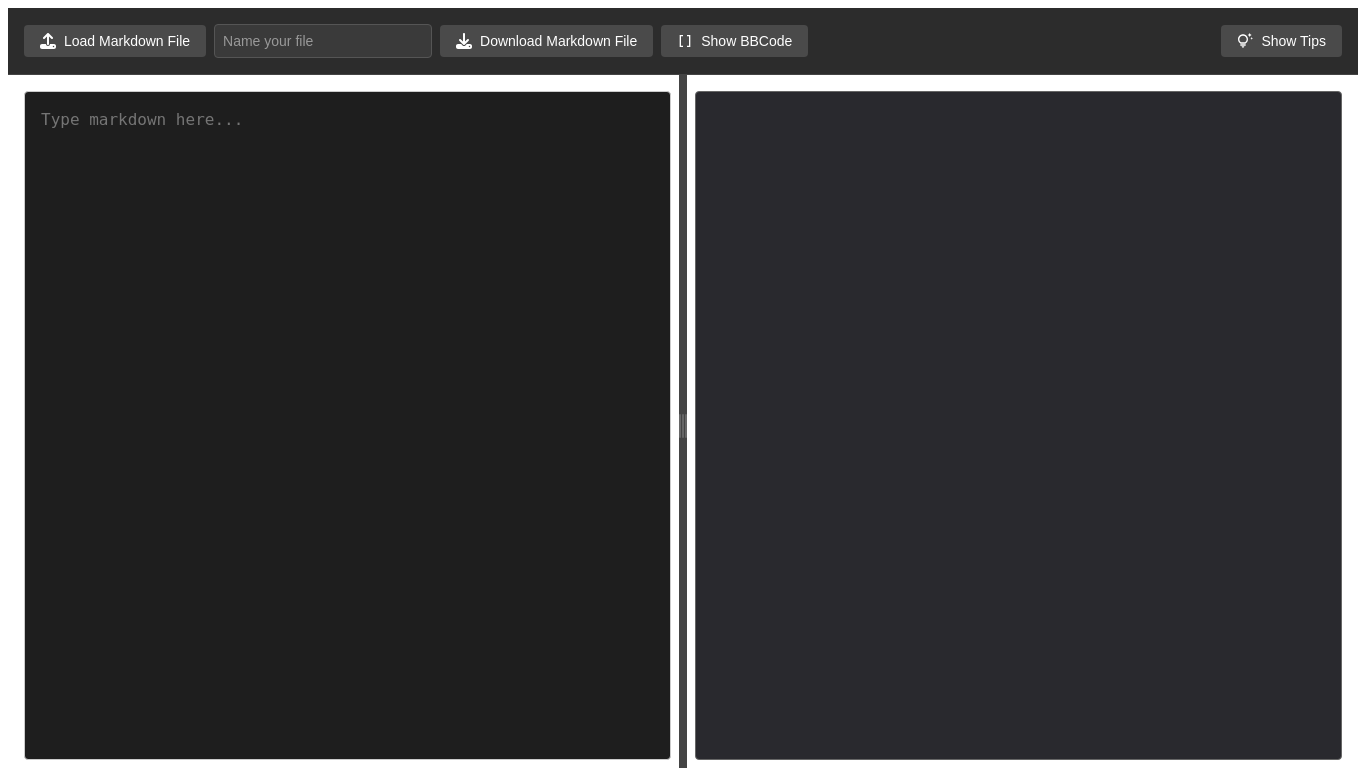
App › should generate BBCode when in BBCode mode
The width and height of the screenshot is (1366, 768).
Type "**bold text**" into the text box with placeholder "Type markdown here..." at (348,426), box [24,91,671,760]
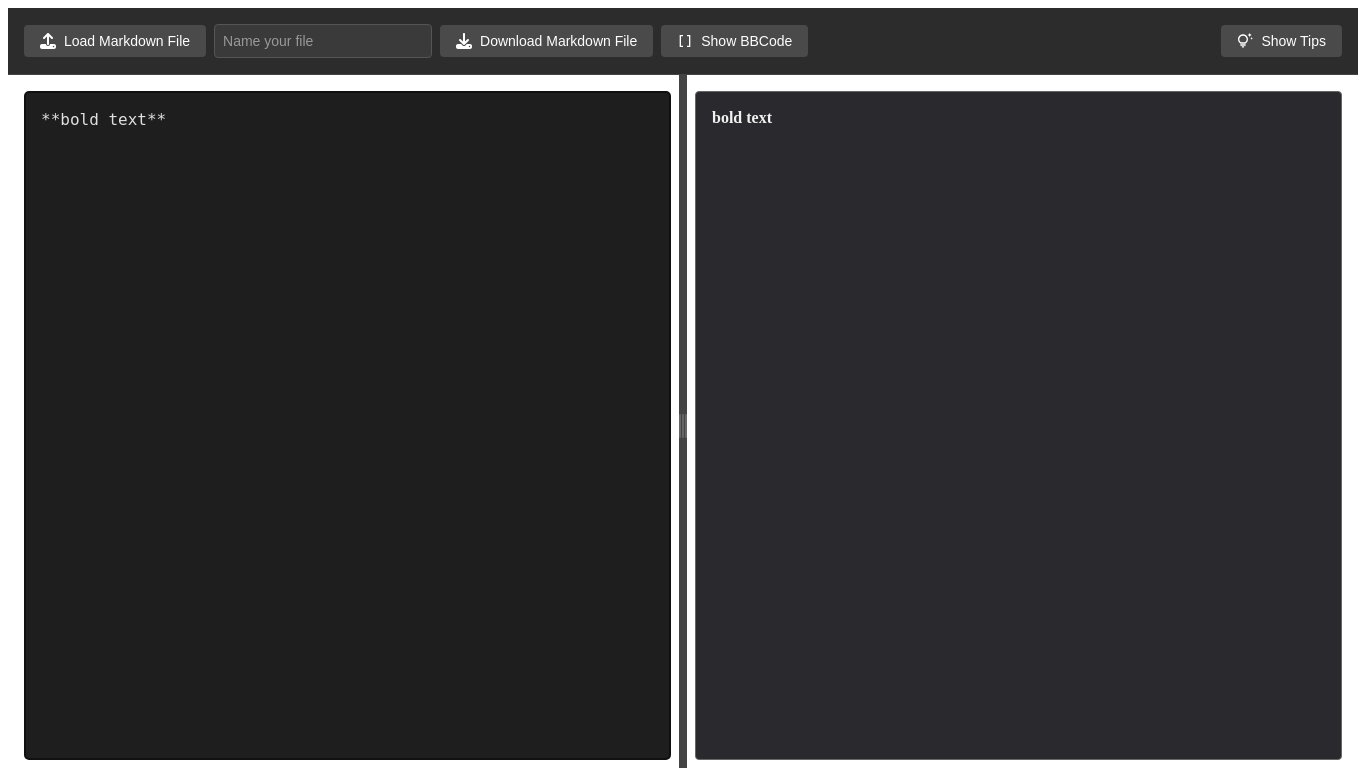
Note: Switch to BBCode mode
Click the button "Show BBCode" at (735,41), box [661,25,808,57]
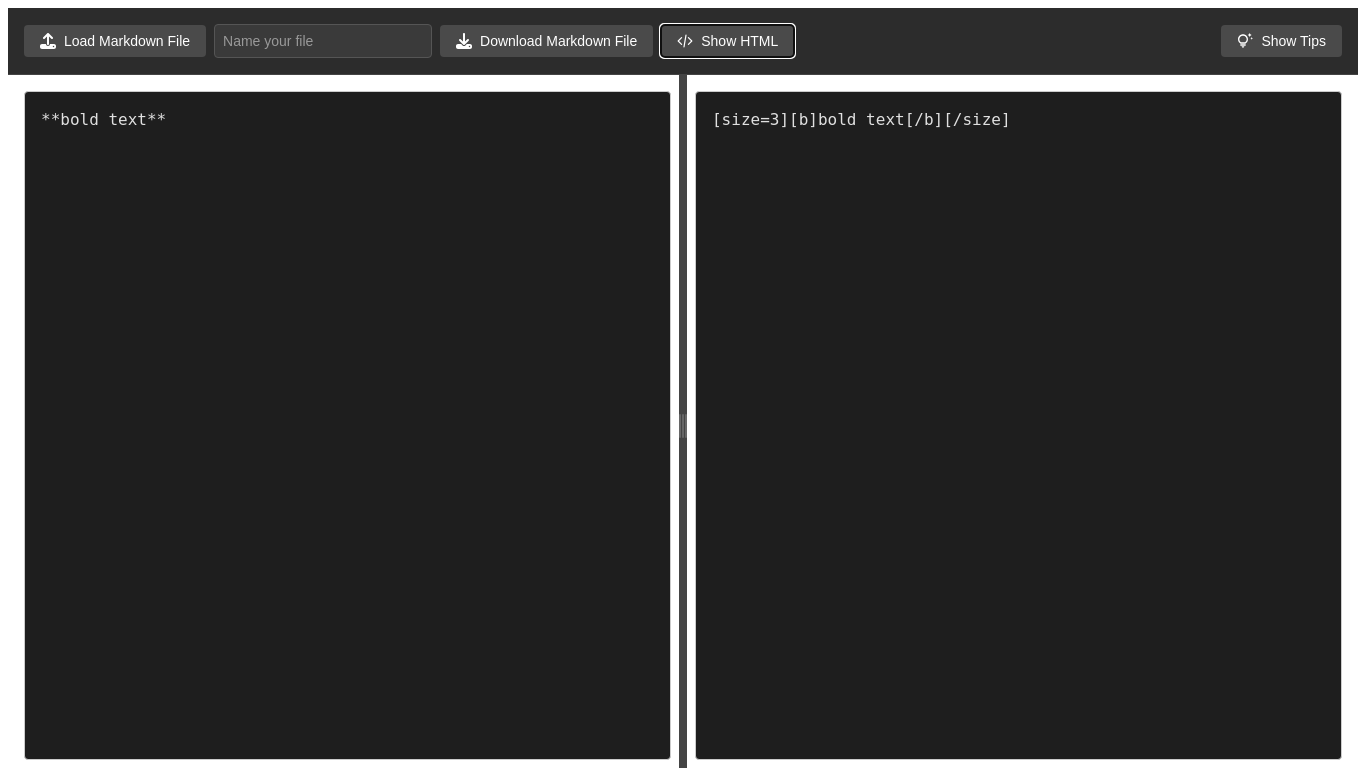
Now the 2nd text box with placeholder "Write some Markdown to see the BBCode..." is shown, box [695,91,1342,760]
